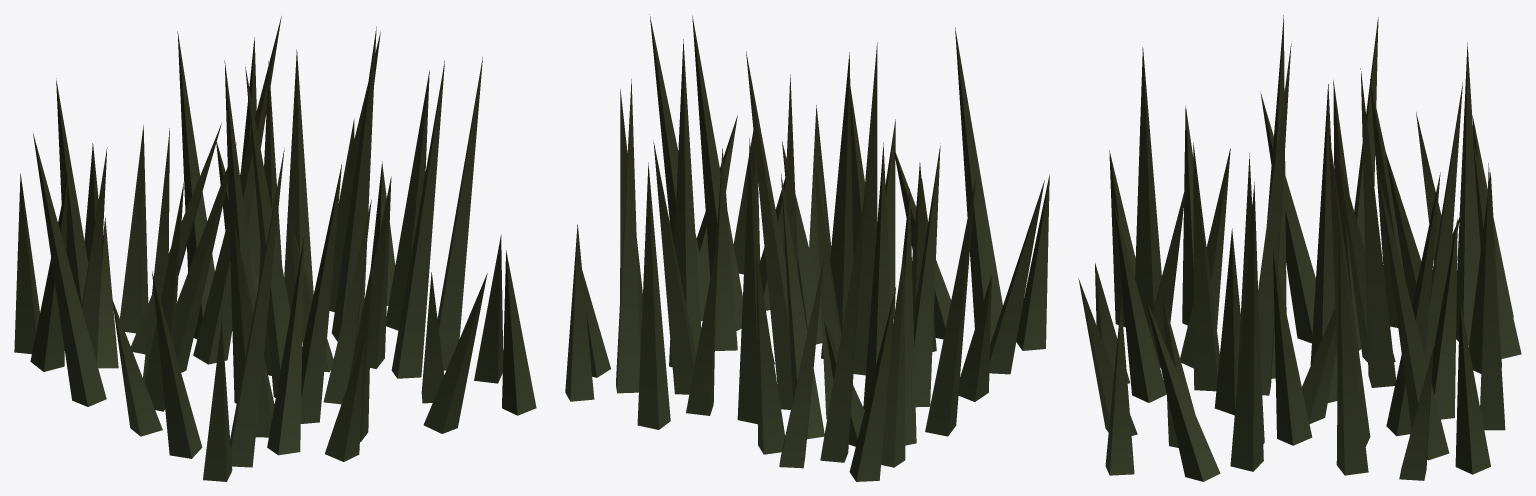
The model's file is Colza_Tile_Dead.glb.
3 renders of one model, left to right at view 1: azimuth 30°, elevation 25°; view 2: azimuth 150°, elevation 25°; view 3: azimuth 270°, elevation 25°, orthographic. The views are drawn at different scales.
Visible parts, largest first — view 1: Colza_DEAD; view 2: Colza_DEAD; view 3: Colza_DEAD.
Part boxes in pixels (box(x1,y1,x2,y2)): Colza_DEAD: box(14, 16, 536, 481); Colza_DEAD: box(565, 14, 1049, 481); Colza_DEAD: box(1078, 15, 1521, 481).
Bounding box in the file's own units: 1.17 × 0.9855 × 1.13.
